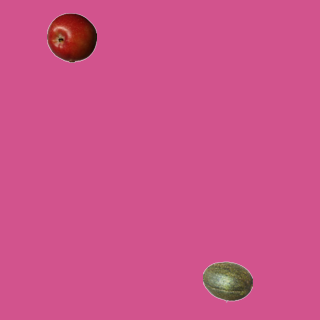Apple Braeburn: (46, 12, 96, 62)
Melon Piel de Sapo: (202, 256, 252, 306)
